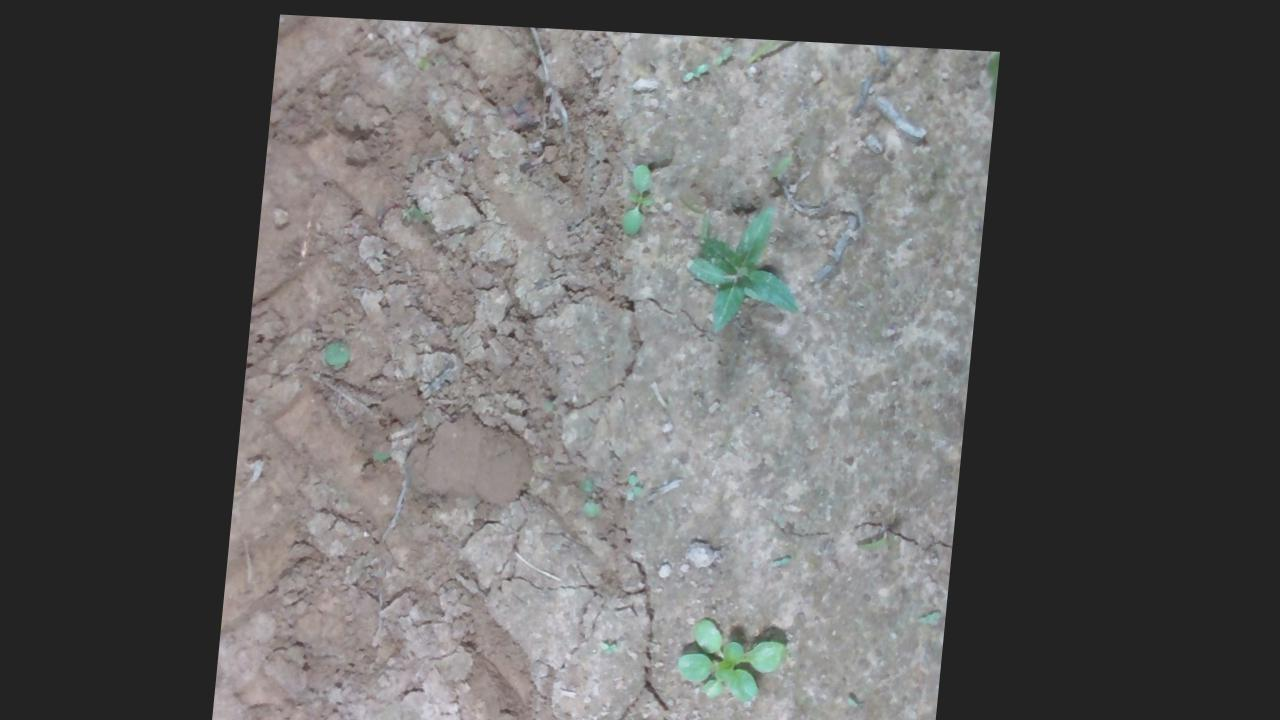weed: (622, 155, 661, 229), (624, 463, 657, 499), (678, 54, 709, 78), (712, 37, 735, 60)
